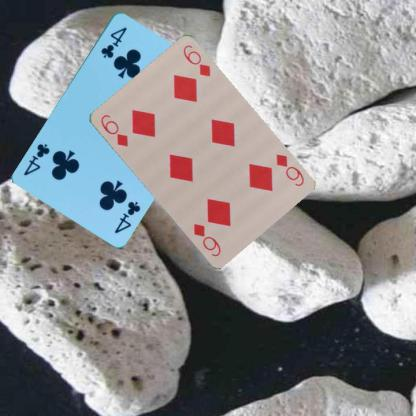4c: (112, 198, 142, 235), (98, 24, 128, 60)
6d: (97, 111, 129, 148), (273, 151, 305, 188)
